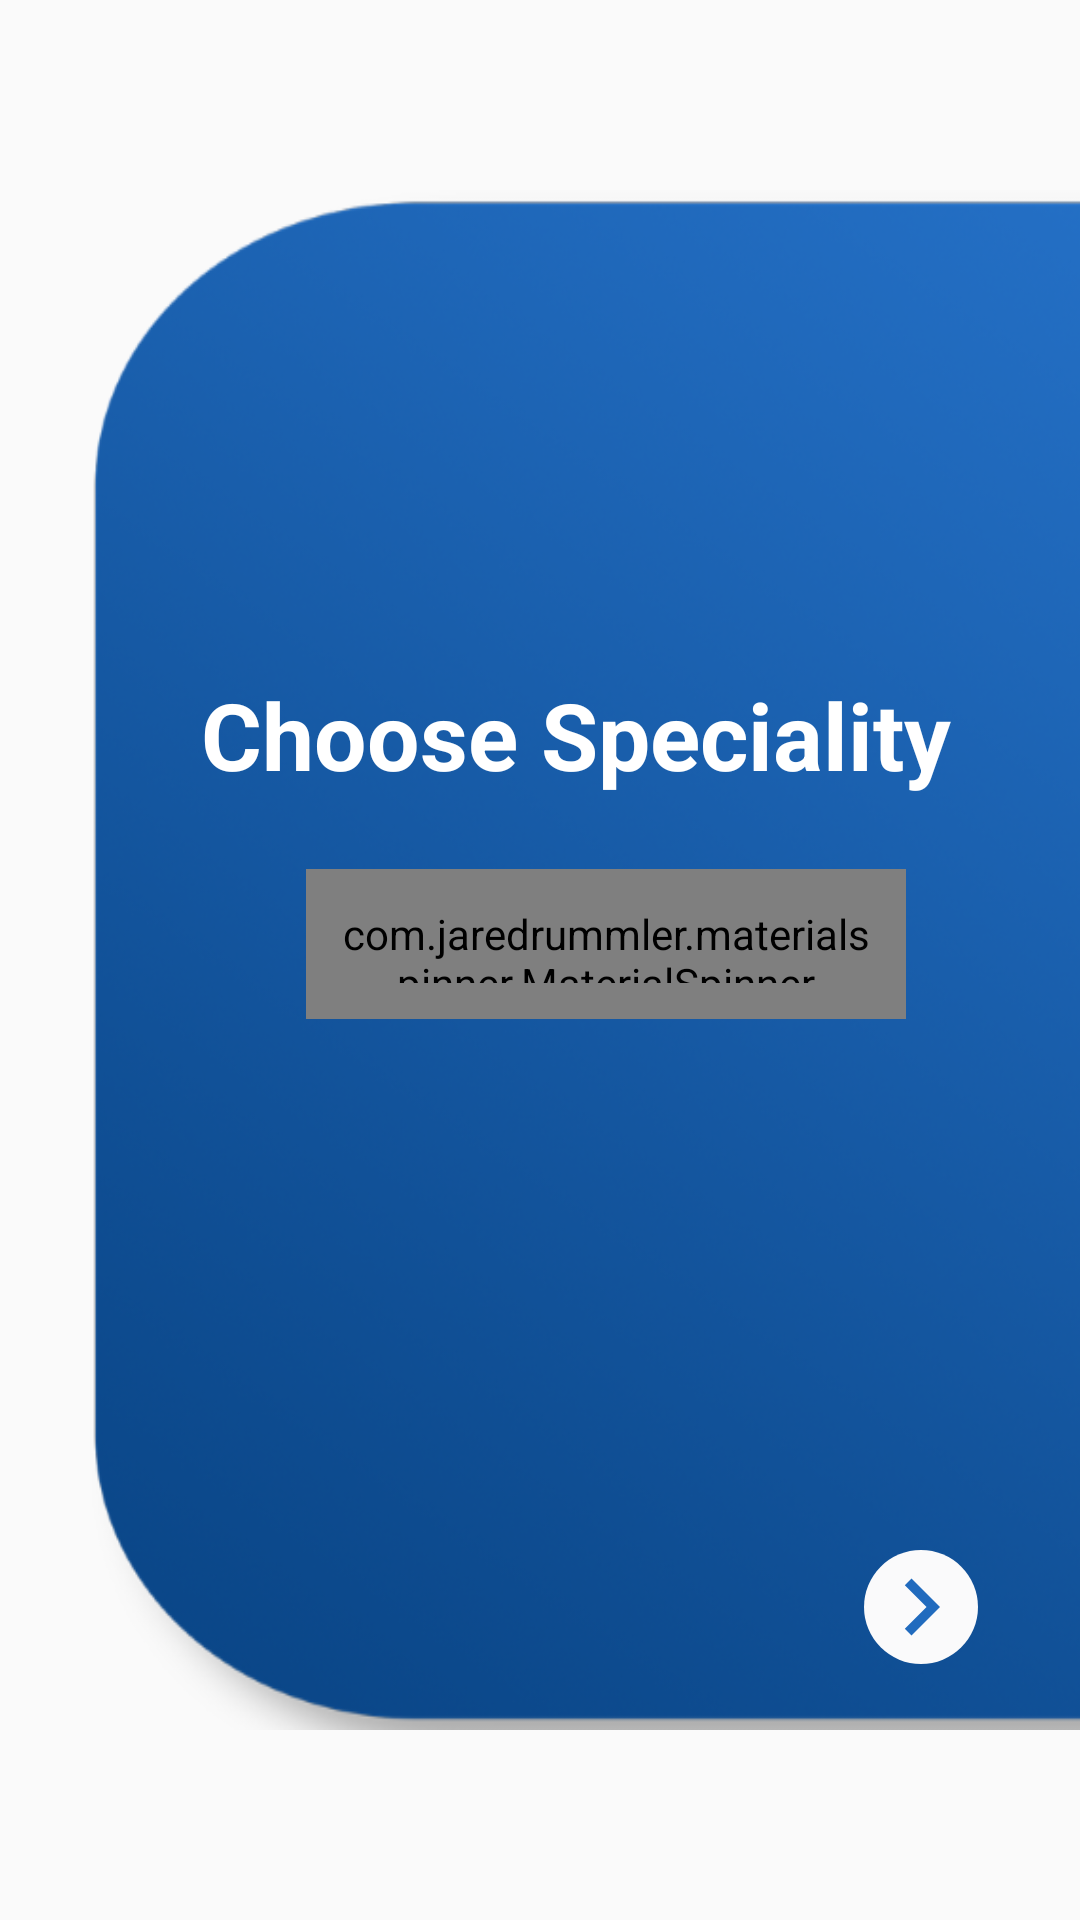

Icon click points for this 1080x1920 phone screenshot, format (x,y):
chevron right: (921,1607)
